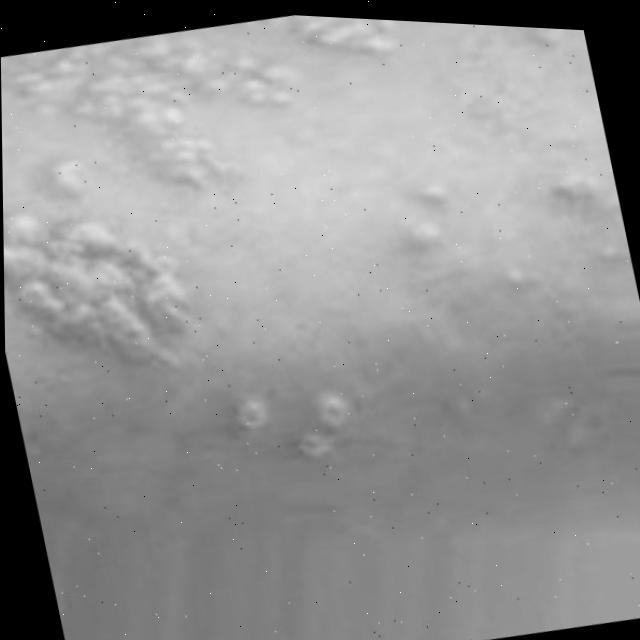Shingles: (0, 2, 311, 235), (2, 138, 214, 408), (225, 369, 371, 475), (267, 14, 405, 82)
